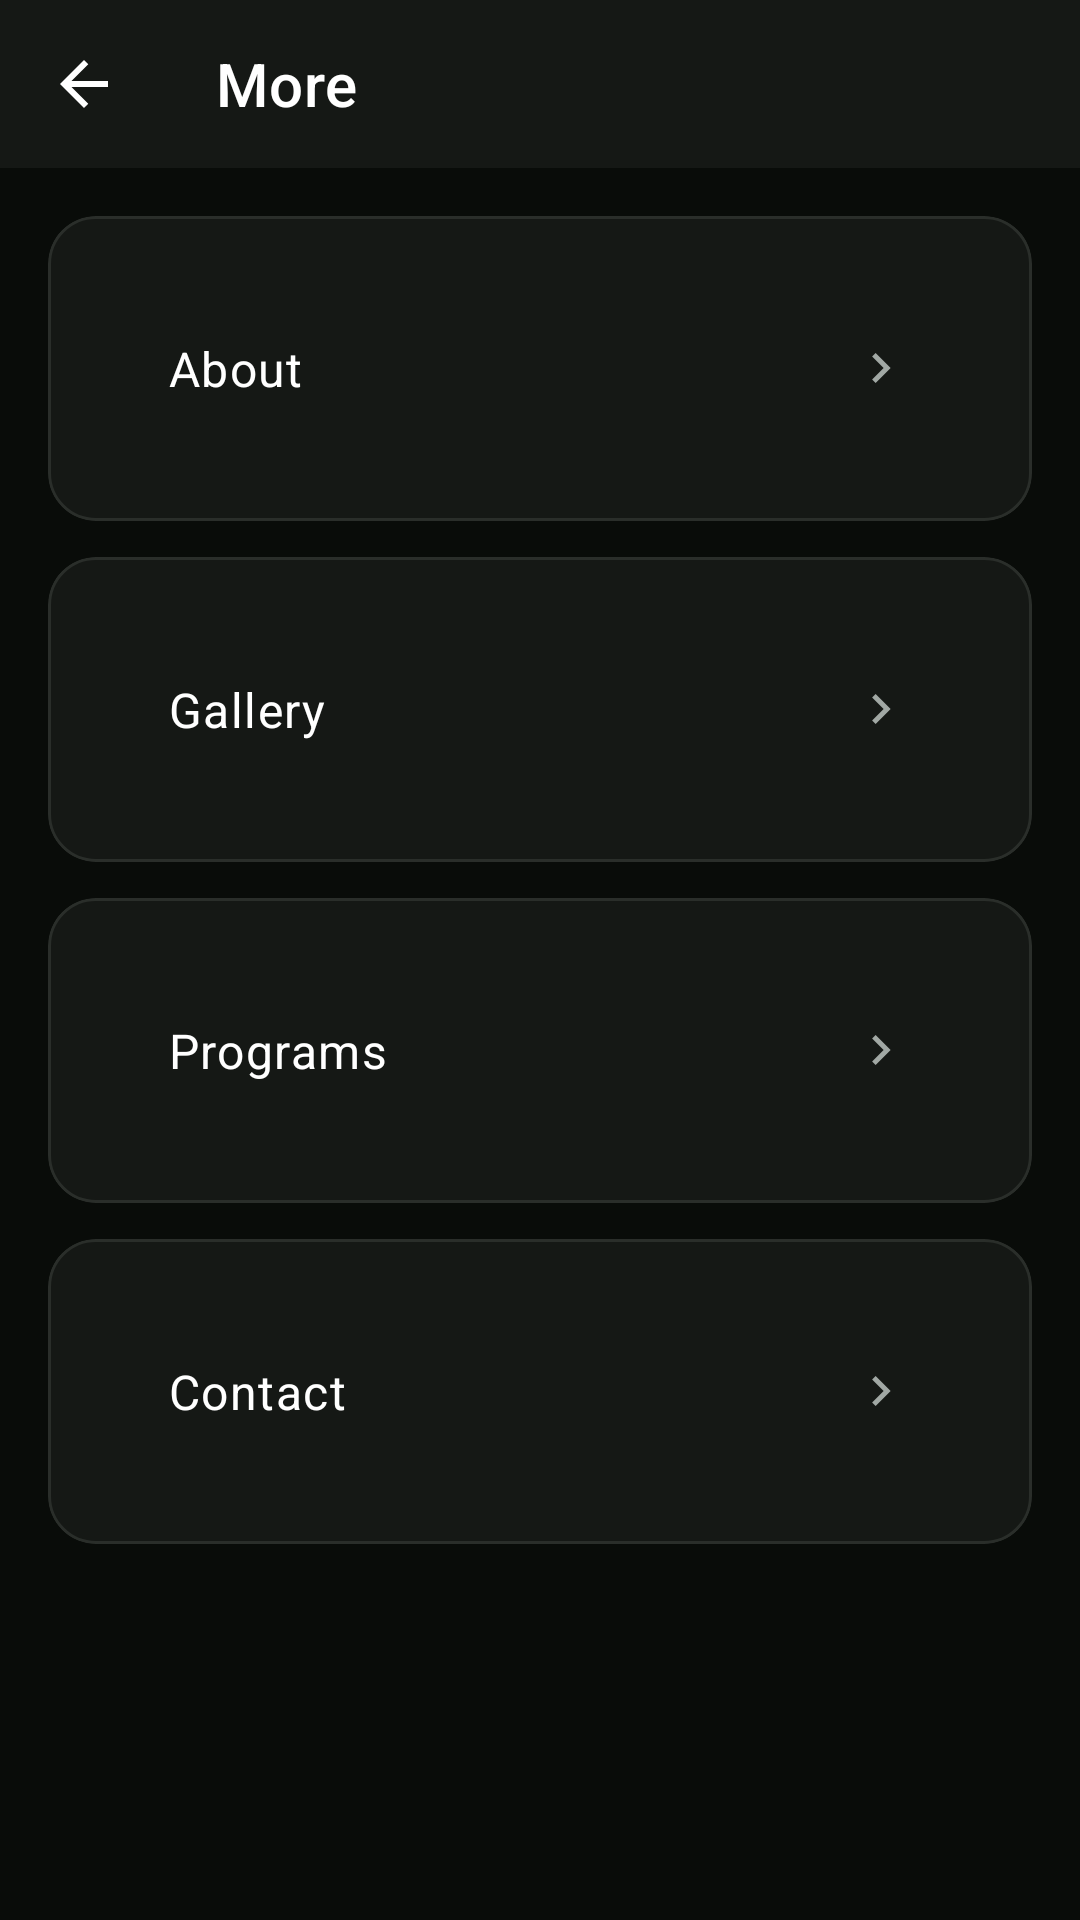

Icons on this 1080x1920 Android screen, each with the point to tap as [x,y]:
chevron right: [881,368], [881,709], [881,1050], [881,1391]
